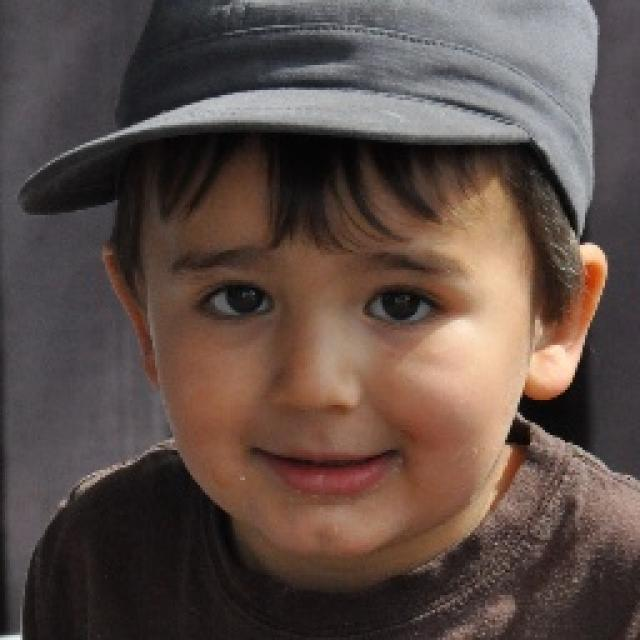earlobe: (522, 344, 568, 403), (138, 346, 161, 394)
eye: (196, 276, 279, 324), (365, 281, 442, 331)
nose: (274, 398, 364, 443)
wholeear: (522, 242, 606, 403), (100, 244, 162, 394)
